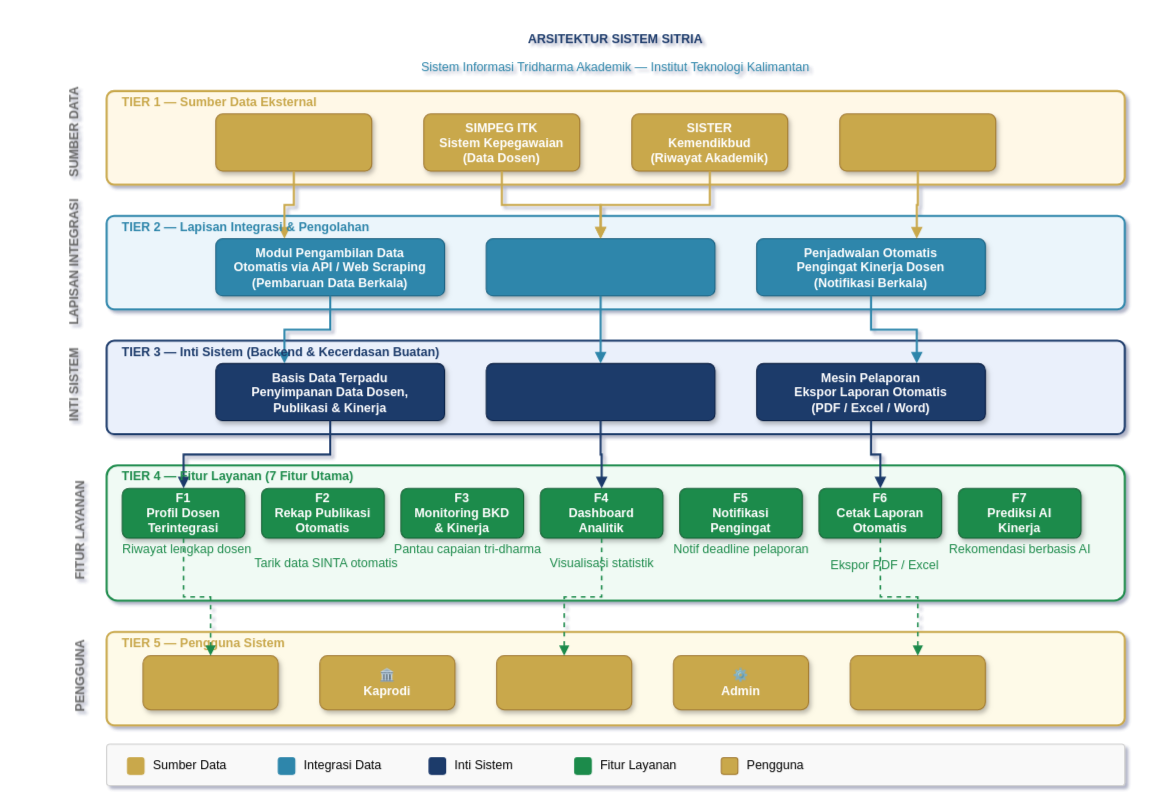
Some shapes in this 1149 by 810 pixel diagram are drawn without their labels. The shapes that lost their labels are listed below. From the top down, each one's centre as x and y in pixels, then its label:
At point 294,143: "Portal SINTA Kemdiktisaintek (Publikasi Dosen)".
At point 918,143: "Input Manual Form Pengisian oleh Dosen".
At point 601,268: "Modul Validasi Data Pengecekan Duplikasi dan Konsistensi Data".
At point 601,393: "Mesin Analitik AI Prediksi Kinerja & Rekomendasi Peningkatan Tridharma".
At point 211,684: "🎓 Dosen".
At point 564,684: "👔 Dekan".
At point 918,684: "🔍 Pimpinan ITK".
